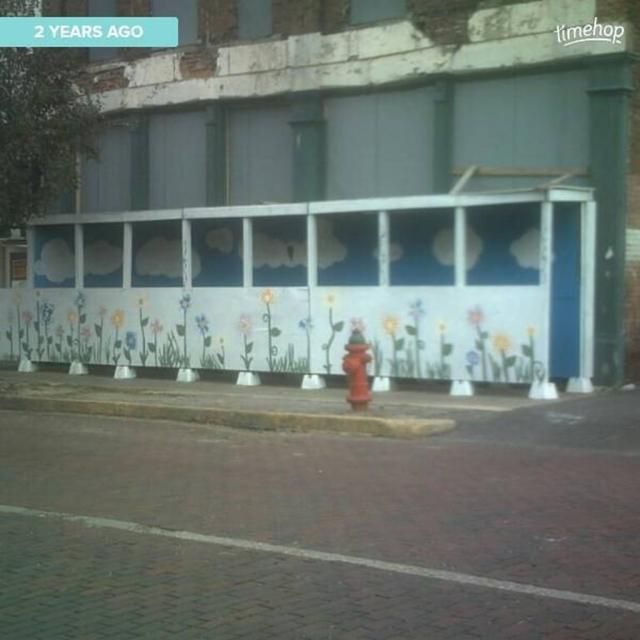fire_hydrant: (340, 328, 371, 409)
